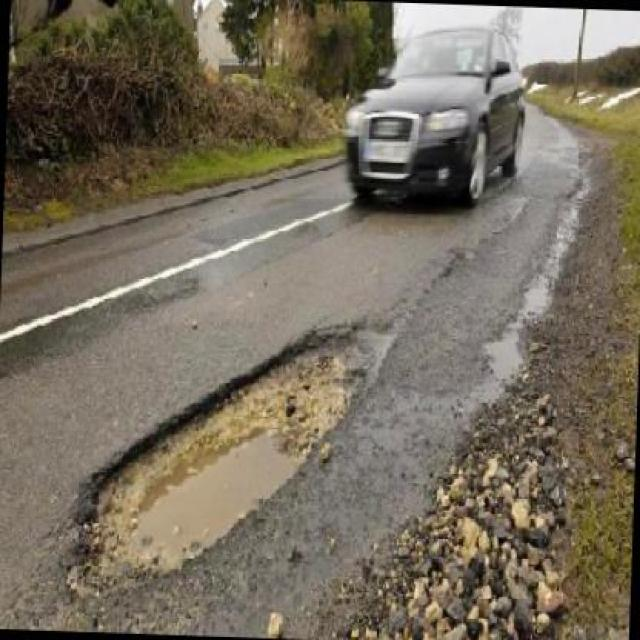pothole: (72, 309, 396, 580)
